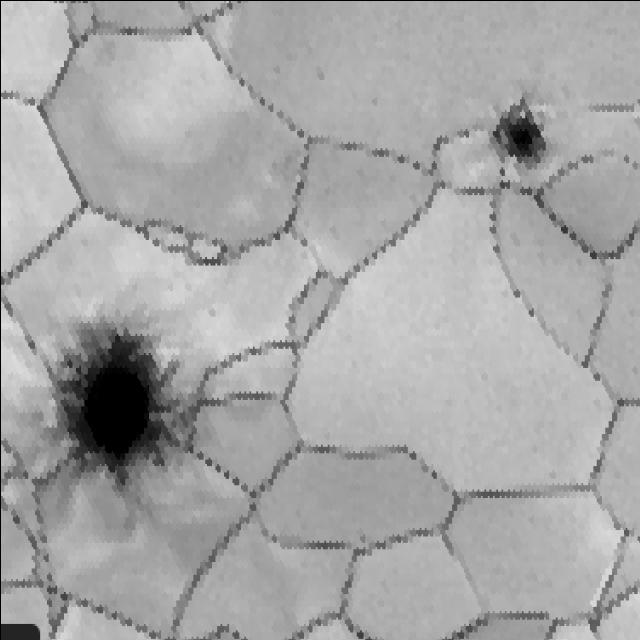good_void: (25, 295, 195, 539), (490, 85, 553, 175), (314, 63, 326, 81), (370, 95, 380, 110), (496, 166, 505, 179), (207, 306, 216, 318)
